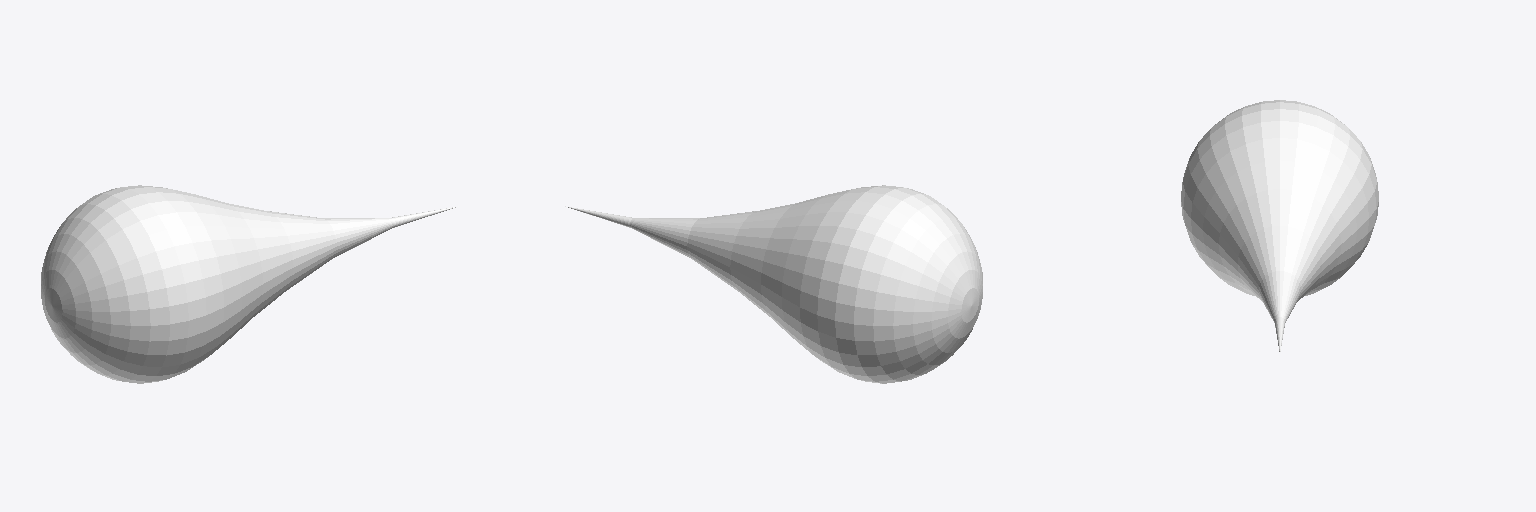
File: teardrop.obj
The picture shows the model from 3 angles: view 1: azimuth 30°, elevation 25°; view 2: azimuth 150°, elevation 25°; view 3: azimuth 270°, elevation 25°; orthographic projection.
Bounding box in the file's own units: 237 × 99.84 × 99.84.